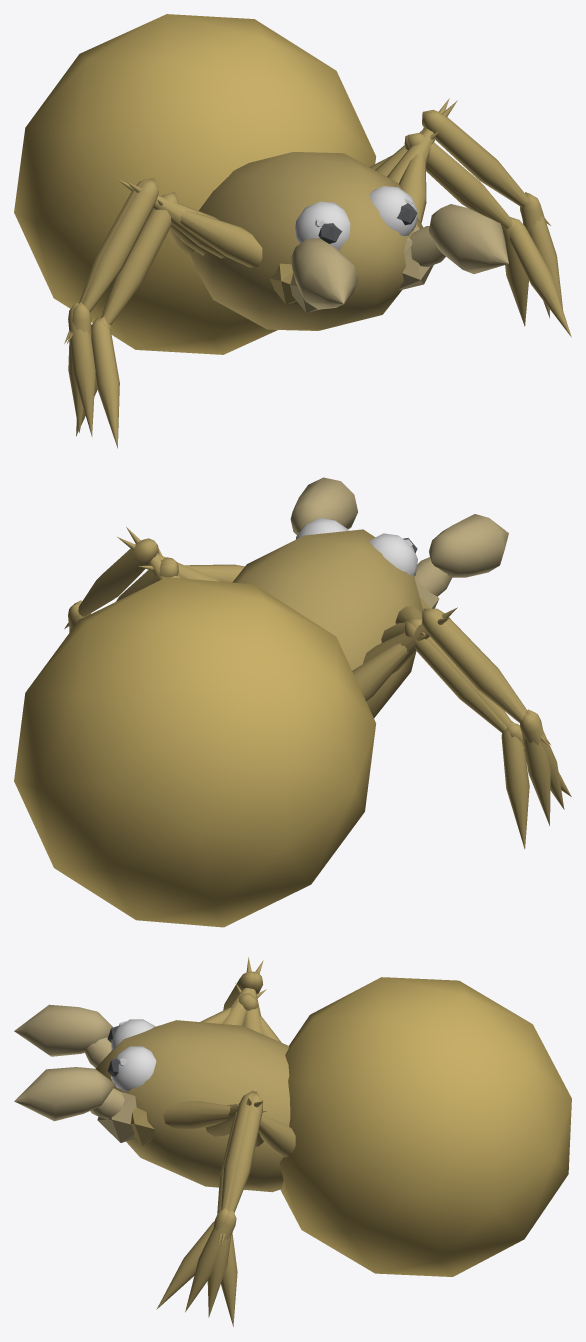
File: nephila-pilipes.glb
3 views of the same model, one above another, from view 1: azimuth 30°, elevation 25°; view 2: azimuth 150°, elevation 25°; view 3: azimuth 270°, elevation 25° (orthographic). The views are drawn at different scales.
Parts seen in each view (by area): view 1: abdomen, cephalothorax, leg0-r0, leg0-l0, leg2-r0, leg2-l0, palp-l1, leg1-r0, palp-r1, leg1-l0, eye0-r, leg3-l0 (+2 smaller); view 2: abdomen, cephalothorax, leg3-r0, leg1-r0, palp-r1, leg1-l0, leg2-r0, palp-l1, leg0-r0, eye0-r, leg0-l0, palp-r0 (+1 smaller); view 3: abdomen, cephalothorax, palp-l1, leg1-l0, palp-r1, leg0-l0, leg2-l0, leg3-l0, eye0-l, leg2-r0, eye0-r, leg1-r0 (+2 smaller).
Boxes of the visible parts, x1=… form: abdomen: x1=14, y1=14, x2=376, y2=354; cephalothorax: x1=190, y1=152, x2=433, y2=330; leg0-r0: x1=91, y1=192, x2=262, y2=448; leg0-l0: x1=399, y1=127, x2=571, y2=337; leg2-r0: x1=67, y1=178, x2=207, y2=432; leg2-l0: x1=375, y1=100, x2=550, y2=318; palp-l1: x1=429, y1=204, x2=508, y2=273; leg1-r0: x1=64, y1=178, x2=226, y2=436; palp-r1: x1=290, y1=238, x2=357, y2=309; leg1-l0: x1=387, y1=98, x2=562, y2=309; eye0-r: x1=295, y1=201, x2=350, y2=250; leg3-l0: x1=369, y1=130, x2=528, y2=326; abdomen: x1=14, y1=577, x2=376, y2=927; cephalothorax: x1=232, y1=529, x2=439, y2=717; leg3-r0: x1=352, y1=621, x2=529, y2=849; leg1-r0: x1=381, y1=610, x2=564, y2=809; palp-r1: x1=429, y1=514, x2=508, y2=577; leg1-l0: x1=64, y1=537, x2=220, y2=630; leg2-r0: x1=363, y1=607, x2=551, y2=825; palp-l1: x1=290, y1=477, x2=357, y2=535; leg0-r0: x1=395, y1=606, x2=571, y2=796; eye0-r: x1=369, y1=533, x2=417, y2=576; leg0-l0: x1=116, y1=557, x2=244, y2=601; palp-r0: x1=414, y1=557, x2=452, y2=596; abdomen: x1=279, y1=977, x2=571, y2=1276; cephalothorax: x1=95, y1=1020, x2=290, y2=1192; palp-l1: x1=14, y1=1067, x2=115, y2=1121; leg1-l0: x1=185, y1=1091, x2=262, y2=1312; palp-r1: x1=14, y1=1004, x2=113, y2=1056; leg0-l0: x1=156, y1=1101, x2=266, y2=1309; leg2-l0: x1=207, y1=1091, x2=263, y2=1317; leg3-l0: x1=221, y1=1104, x2=295, y2=1326; eye0-l: x1=107, y1=1046, x2=156, y2=1091; leg2-r0: x1=223, y1=957, x2=263, y2=1034; eye0-r: x1=107, y1=1019, x2=155, y2=1051; leg1-r0: x1=222, y1=960, x2=263, y2=1025.
Bounding box in the file's own units: 0.3819 × 0.2242 × 0.4348.
